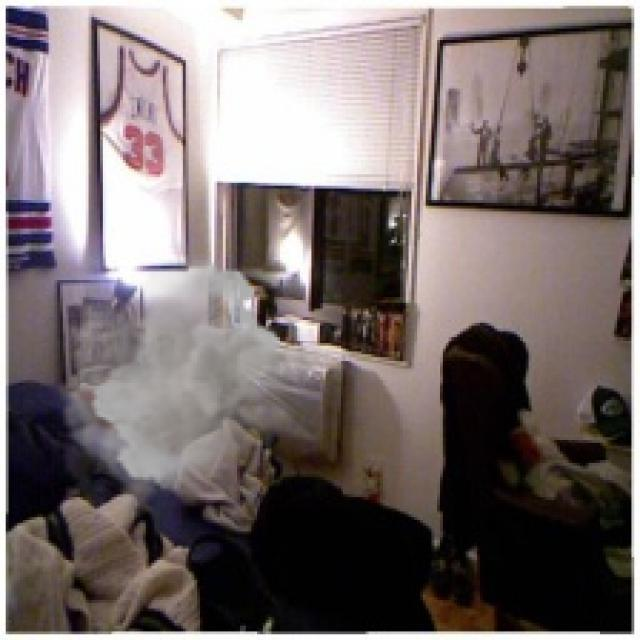Smoke: (54, 254, 334, 529)
